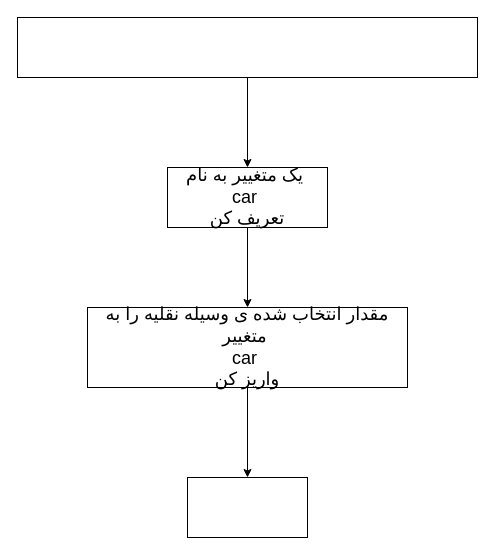
This 495x555 diagram has some shape labels left out. Each missing label, with the centre of its shape:
return car: [247,507]
فانکشنی تعریف کن که زمانیکه نوع وسیله نقلیه تغییر کرد، آن را بگیرد: [247,47]
